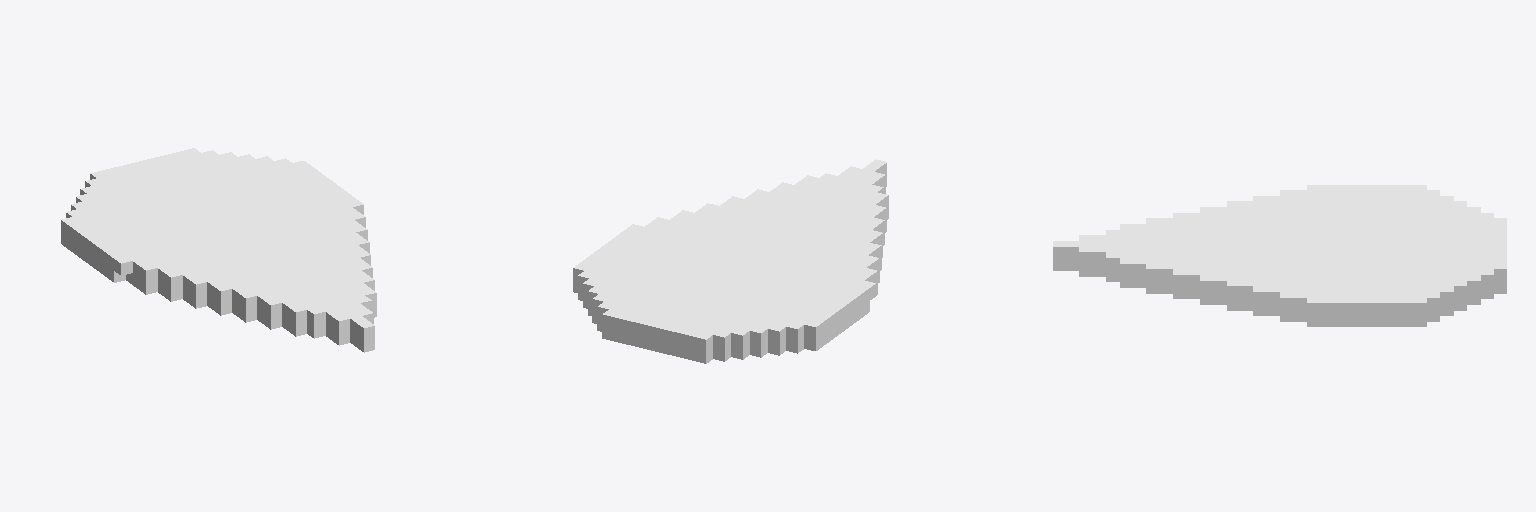
The model's file is fire_ball.obj.
3 renders of one model, left to right at view 1: azimuth 30°, elevation 25°; view 2: azimuth 150°, elevation 25°; view 3: azimuth 270°, elevation 25°, orthographic.
Visible parts, largest first — view 1: object 1; view 2: object 1; view 3: object 1.
Boxes of the visible parts, x1,y1,x2,y2 form: object 1: [61, 148, 376, 352]; object 1: [573, 159, 888, 363]; object 1: [1053, 185, 1506, 326].
Bounding box in the file's own units: 2.1 × 0.2 × 3.4.